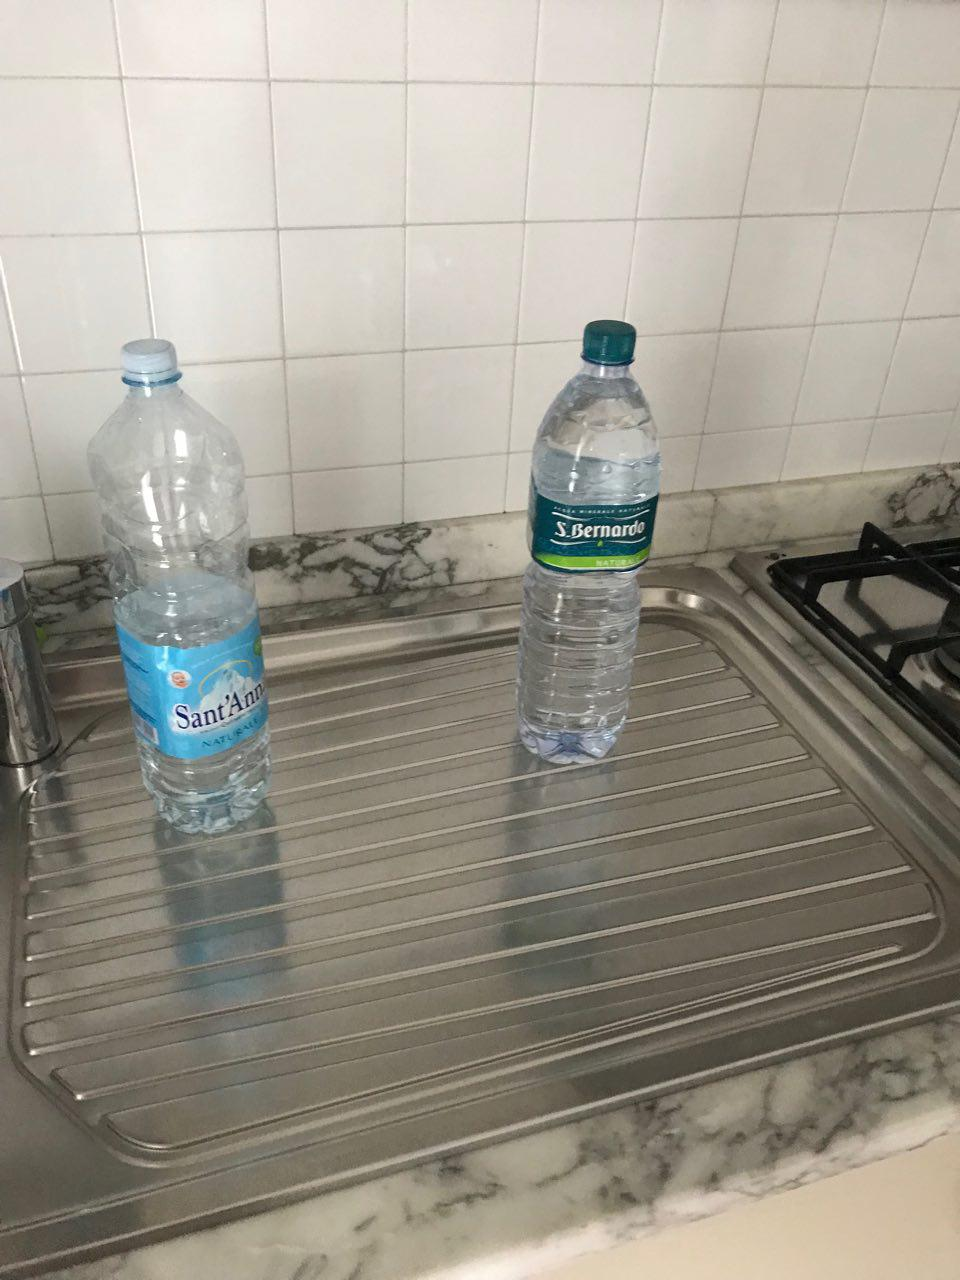san_bernardo: (516, 319, 661, 765)
